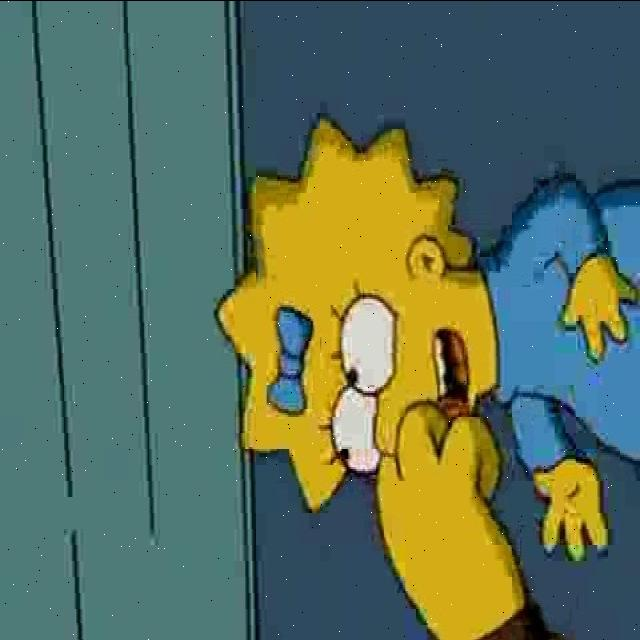Maggie Simpson: (214, 111, 504, 517)
